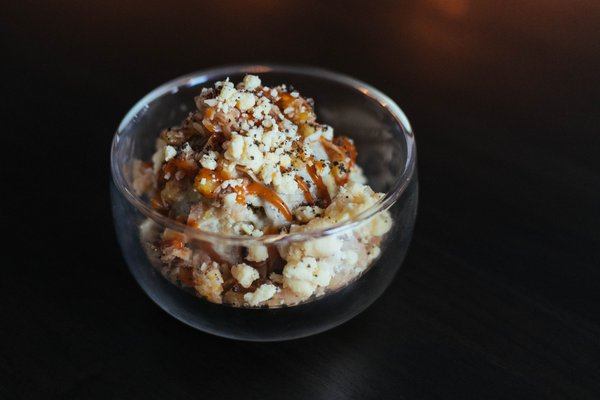sushi: (110, 63, 417, 313)
